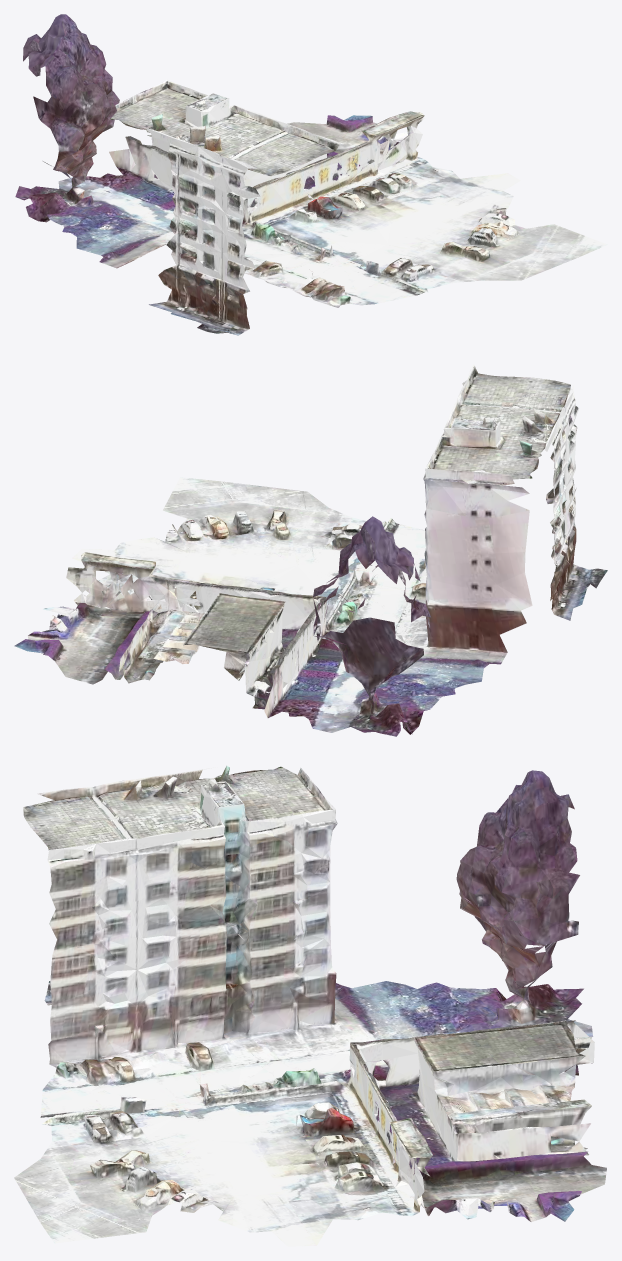
Rendered from Tile_+011_+019_L19_000033.glb.
The picture shows the model from 3 angles, top to bottom: view 1: azimuth 30°, elevation 25°; view 2: azimuth 150°, elevation 25°; view 3: azimuth 270°, elevation 25°; orthographic projection. The views are drawn at different scales.
Parts seen in each view (by area): view 1: rtc; view 2: rtc; view 3: rtc.
Part boxes in pixels (bbox=[...]): rtc: bbox=[15, 14, 607, 335]; rtc: bbox=[14, 364, 607, 736]; rtc: bbox=[14, 765, 606, 1246].
Size of the model in its own units: 62.11 by 28 by 58.35.
1 material, 1 textured.
